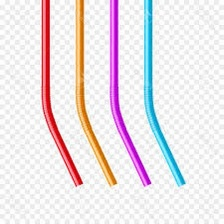drinking_straw: (137, 0, 190, 190), (36, 0, 87, 189), (105, 0, 153, 189), (71, 0, 119, 188)
